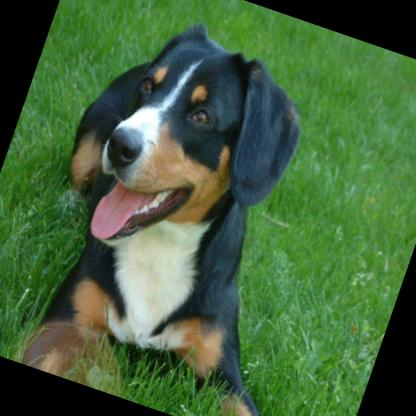EntleBucher: (0, 0, 390, 416)
